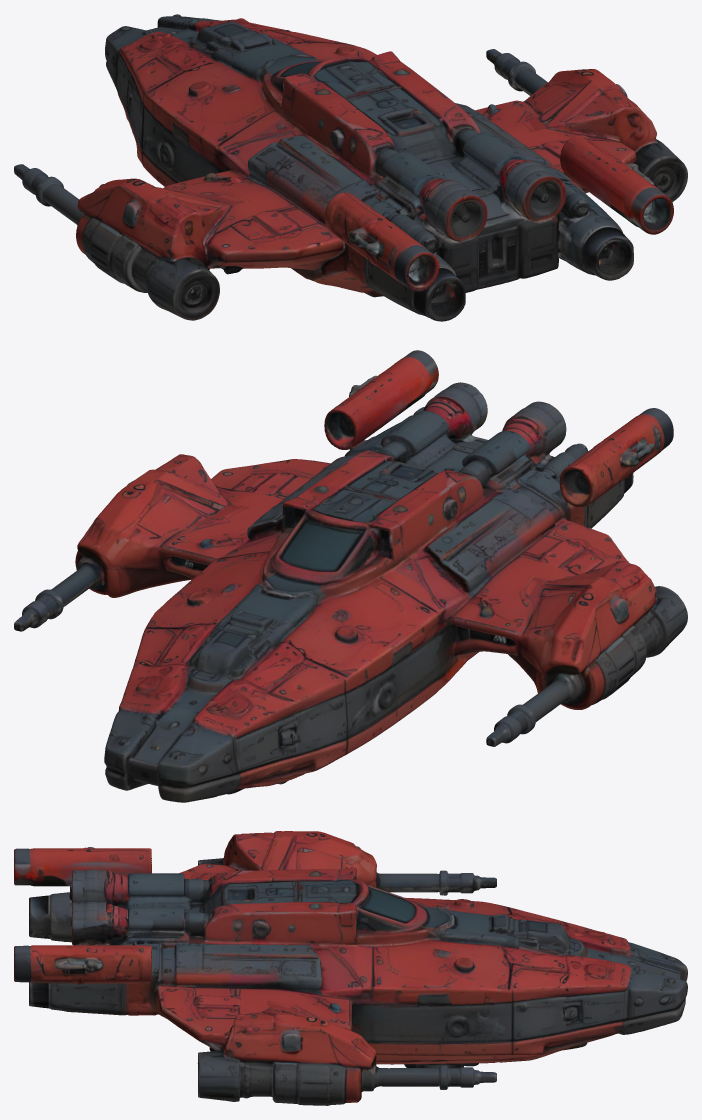
The model's file is interceptor.glb.
The picture shows the model from 3 angles, top to bottom: view 1: azimuth 30°, elevation 25°; view 2: azimuth 150°, elevation 25°; view 3: azimuth 270°, elevation 25°; orthographic projection. The views are drawn at different scales.
Parts seen in each view (by area): view 1: tripo_node_c42f6f77-5273-44cd-9f88-efc8b5e043a9; view 2: tripo_node_c42f6f77-5273-44cd-9f88-efc8b5e043a9; view 3: tripo_node_c42f6f77-5273-44cd-9f88-efc8b5e043a9.
Boxes of the visible parts, bbox=[...] form: tripo_node_c42f6f77-5273-44cd-9f88-efc8b5e043a9: bbox=[14, 14, 687, 321]; tripo_node_c42f6f77-5273-44cd-9f88-efc8b5e043a9: bbox=[14, 350, 687, 802]; tripo_node_c42f6f77-5273-44cd-9f88-efc8b5e043a9: bbox=[14, 831, 687, 1105].
Bounding box in the file's own units: 0.7657 × 0.3051 × 1.
1 material, 1 textured.
